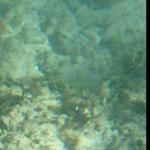dead: (2, 3, 144, 145)
